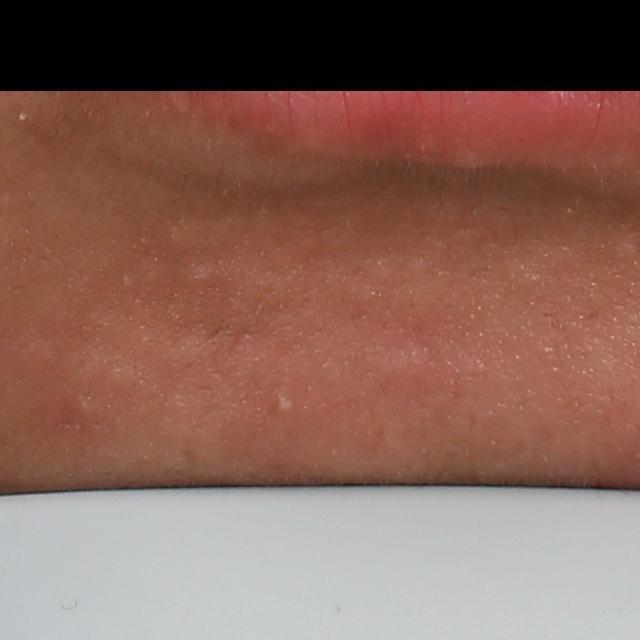comedo: (268, 386, 297, 419)
